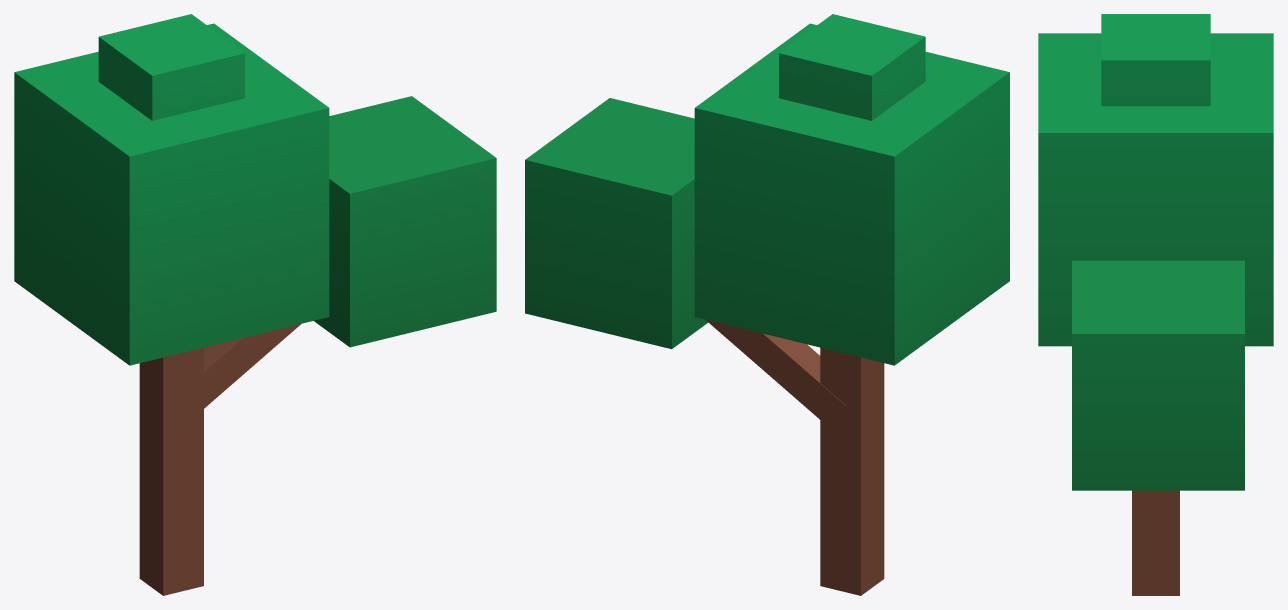
Rendered from Tree_48_gradient_green_vc.fbx.
3 views of the same model, side by side, from view 1: azimuth 30°, elevation 25°; view 2: azimuth 150°, elevation 25°; view 3: azimuth 270°, elevation 25° (orthographic). The views are drawn at different scales.
Visible parts, largest first — view 1: Tree_48_gradient_green_vc; view 2: Tree_48_gradient_green_vc; view 3: Tree_48_gradient_green_vc.
Part boxes in pixels (x1,y1,x2,y2): Tree_48_gradient_green_vc: [14, 14, 496, 595]; Tree_48_gradient_green_vc: [525, 14, 1009, 595]; Tree_48_gradient_green_vc: [1038, 14, 1273, 595].
Bounding box in the file's own units: 140 × 187 × 72.7.
